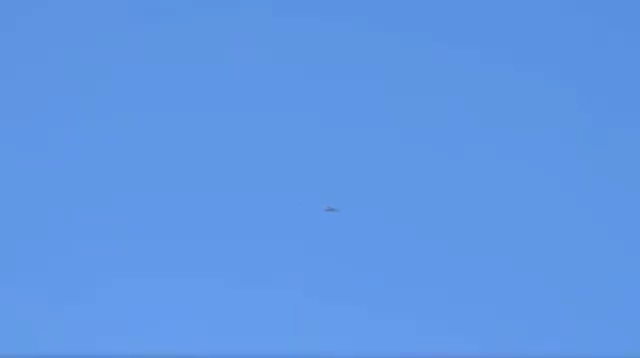shahed: (320, 203, 340, 213)
